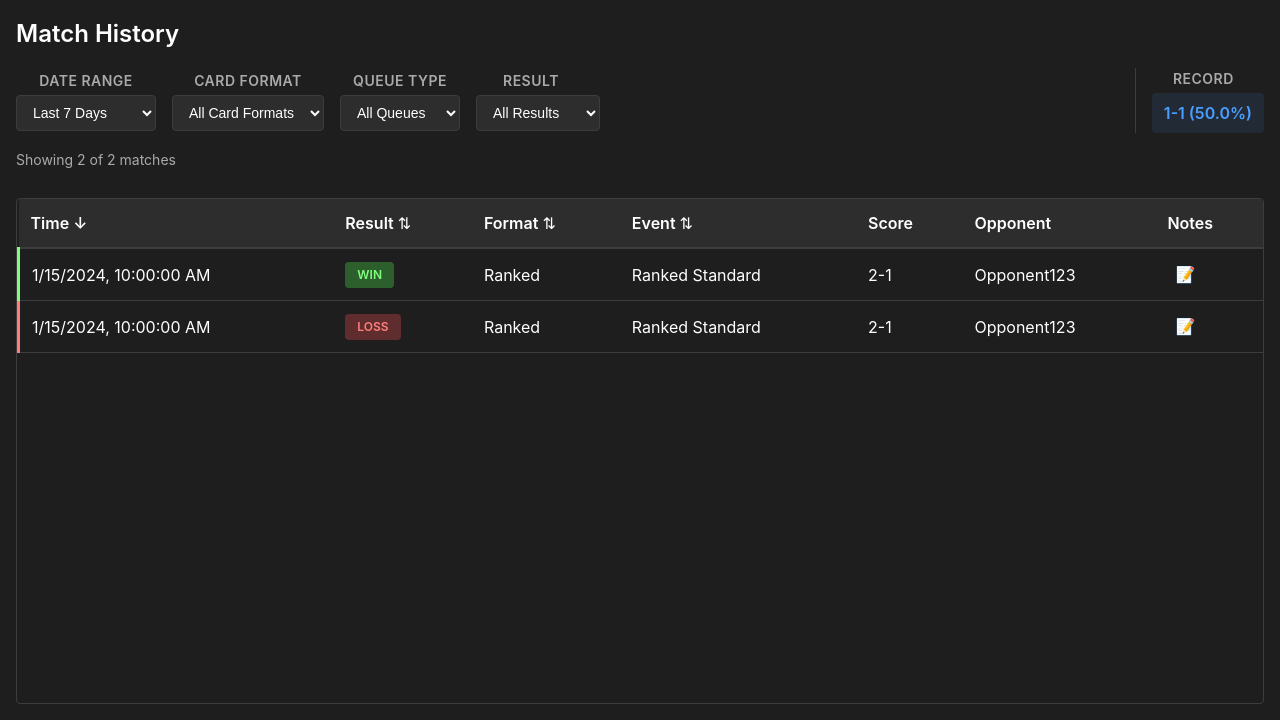
Test: MatchHistory › Sorting › should sort by result when clicking Result header
Expected: the table is shown, [17,199,1263,353]
Click the column heading "Result ⇅": (403, 224) [333,199,472,248]
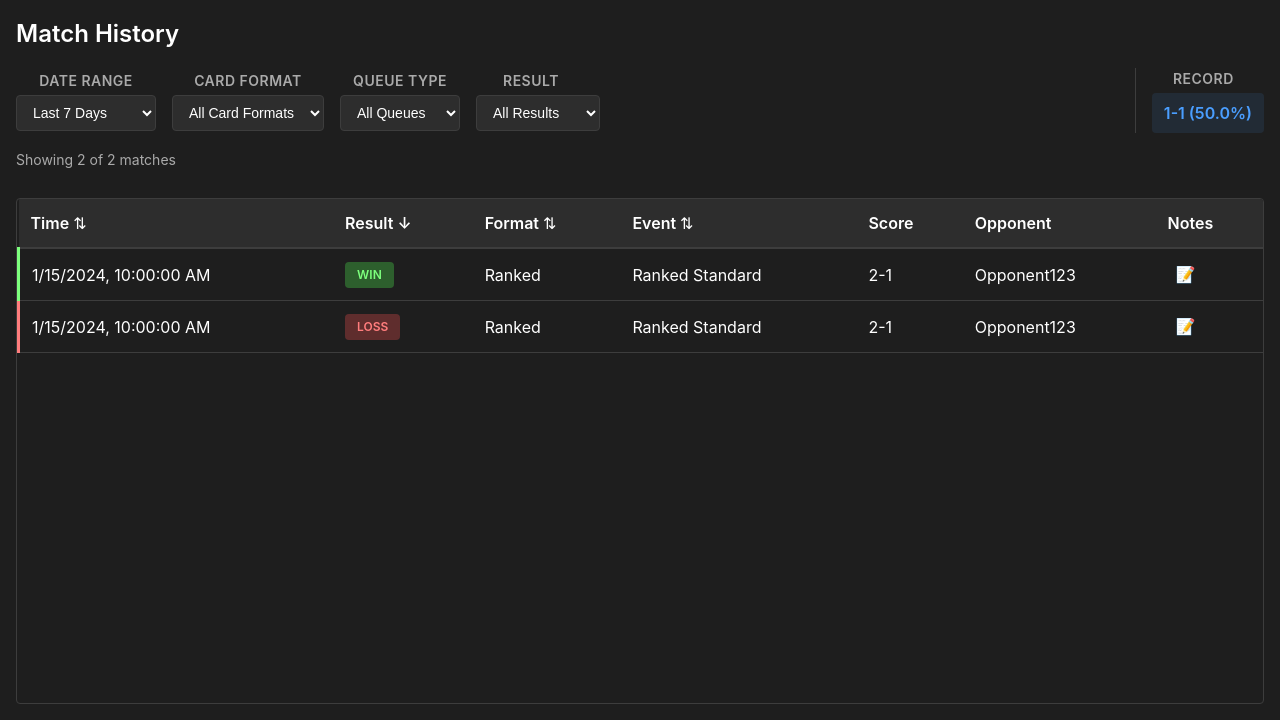
Now the column heading "Result ↓" is shown, box [333,199,473,248]
